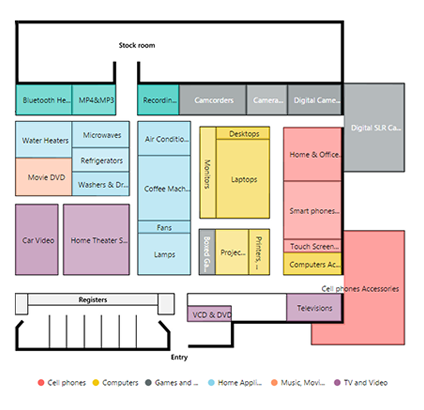

This screenshot's page, from the dashboard's own definition file:
{"tool":"powerbi","page":{"name":"Page 1","canvas":[960,720],"ordinal":0},"visuals":[{"type":"Timeline1444442438073","fields":{"Time":["Date.Date"]},"box":[259.6,610.7,431.4,83],"z":0},{"type":"SynopticPanelBySQLBI1444995042753","fields":{"Category":["Product Category.Category"],"Series":["Product Subcategory.Subcategory"],"Y":["Sales.Margin %"],"Saturation":["Sales.Margin %"]},"box":[107.1,46.7,672.7,534.4],"z":1}]}

Visuals, with their boxes on the page's 960x720 design canvas (x1, y1, x2, y2). These are canvas units, not pixel positions in the 424x410 screenshot, which may show the page scaled, cropped or inside an application window:
Timeline1444442438073 - Date.Date: [left=260, top=611, right=691, bottom=694]
SynopticPanelBySQLBI1444995042753 - Product Category.Category x Product Subcategory.Subcategory: [left=107, top=47, right=780, bottom=581]
